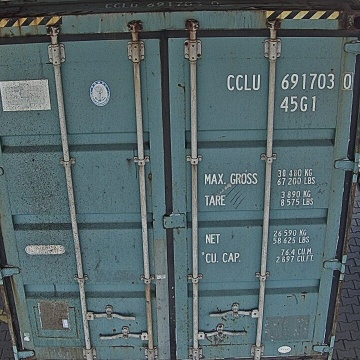serial_id: (227, 72, 353, 90)
